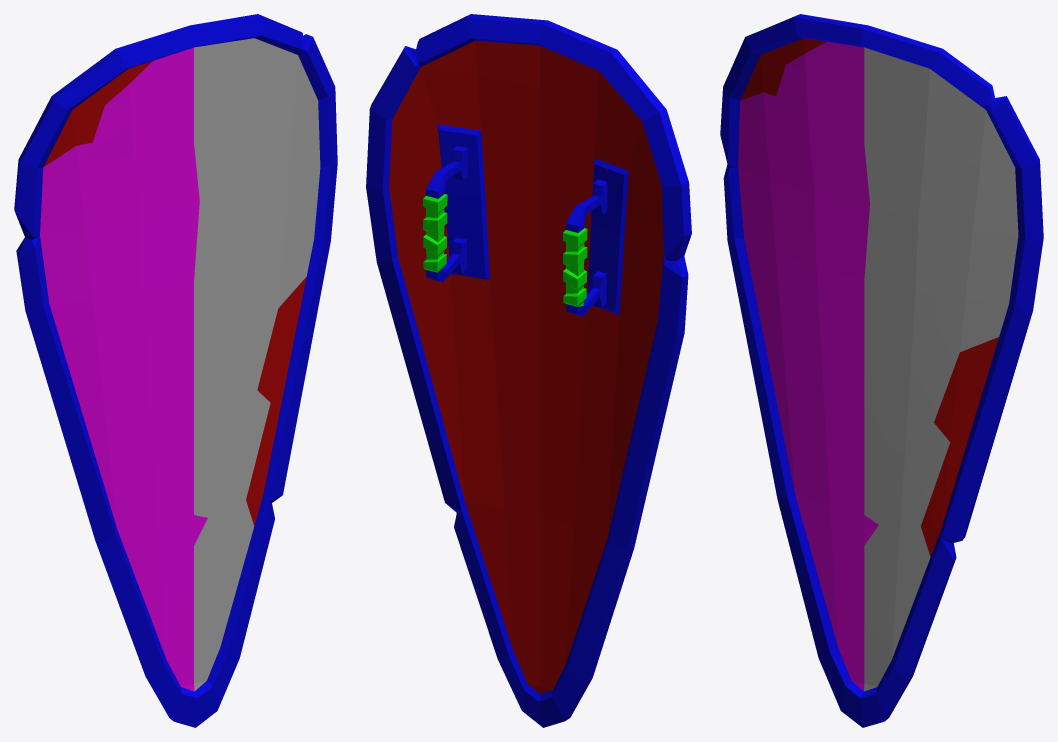
File: Shield_Uncommon_Heraldic_01.fbx
3 views of the same model, side by side, from view 1: azimuth 30°, elevation 25°; view 2: azimuth 150°, elevation 25°; view 3: azimuth 330°, elevation 25° (orthographic).
Parts seen in each view (by area): view 1: SM_Wep_Shield_Long_06; view 2: SM_Wep_Shield_Long_06; view 3: SM_Wep_Shield_Long_06.
Boxes of the visible parts, x1=… form: SM_Wep_Shield_Long_06: x1=14, y1=14, x2=337, y2=727; SM_Wep_Shield_Long_06: x1=366, y1=14, x2=691, y2=727; SM_Wep_Shield_Long_06: x1=720, y1=14, x2=1043, y2=727.
Size of the model in its own units: 63.33 by 131 by 16.3.
